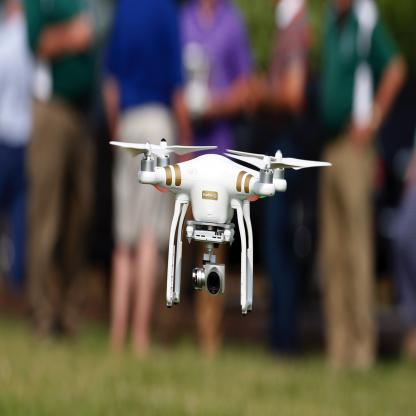drone: (118, 103, 314, 317)
